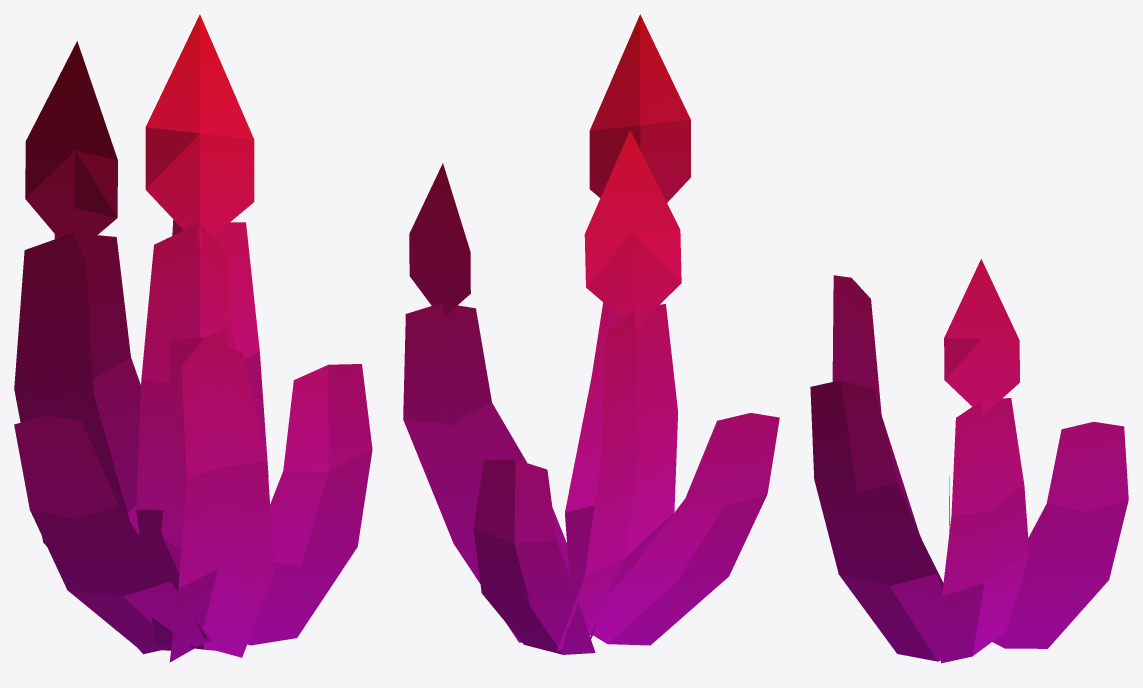
The model's file is synty-plant-purpleflower-01.gltf.
The picture shows the model from 3 angles, left to right: view 1: azimuth 30°, elevation 25°; view 2: azimuth 150°, elevation 25°; view 3: azimuth 270°, elevation 25°; orthographic projection. The views are drawn at different scales.
Visible parts, largest first — view 1: SM_Plant_PurpleFlower_01; view 2: SM_Plant_PurpleFlower_01; view 3: SM_Plant_PurpleFlower_01.
Part boxes in pixels (x1,y1,x2,y2): SM_Plant_PurpleFlower_01: (14,14,372,662); SM_Plant_PurpleFlower_01: (403,14,779,654); SM_Plant_PurpleFlower_01: (810,259,1128,663).
Size of the model in its own units: 0.6276 by 1.08 by 0.5049.
